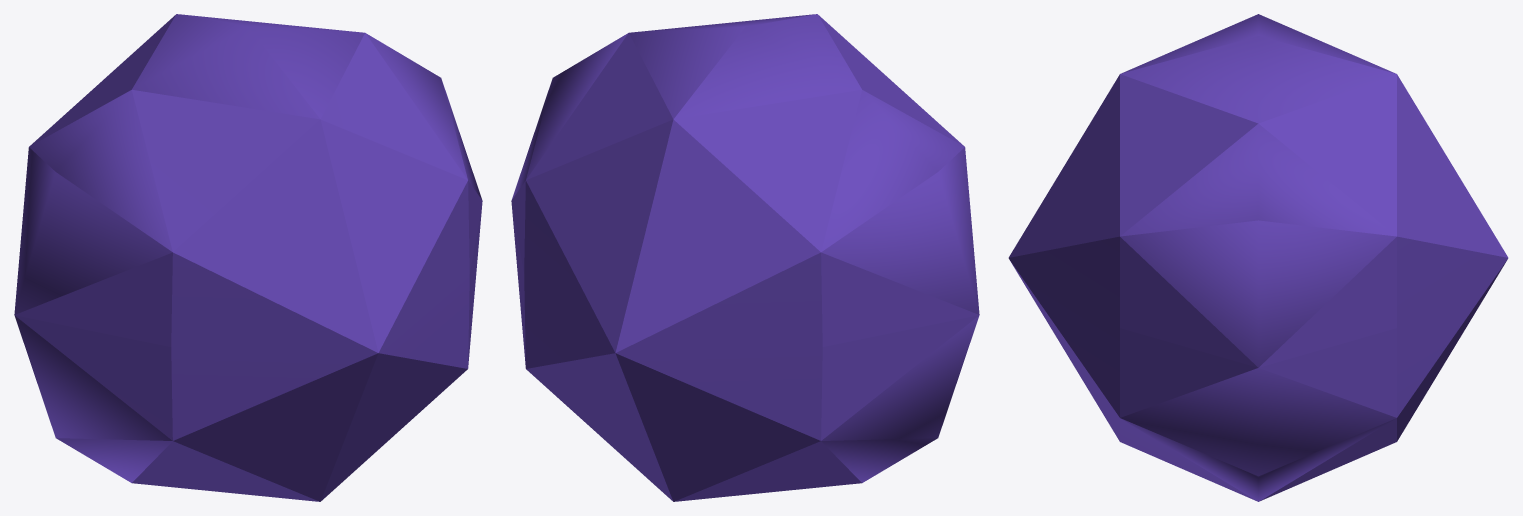
The model's file is Gem_11.fbx.
3 renders of one model, left to right at view 1: azimuth 30°, elevation 25°; view 2: azimuth 150°, elevation 25°; view 3: azimuth 270°, elevation 25°, orthographic. The views are drawn at different scales.
Visible parts, largest first — view 1: Gem_11; view 2: Gem_11; view 3: Gem_11.
Part boxes in pixels (left/top/right/bottom): Gem_11: left=14, top=14, right=482, bottom=501; Gem_11: left=511, top=14, right=979, bottom=501; Gem_11: left=1008, top=14, right=1508, bottom=501.
Bounding box in the file's own units: 79.94 × 75.4 × 76.91.
